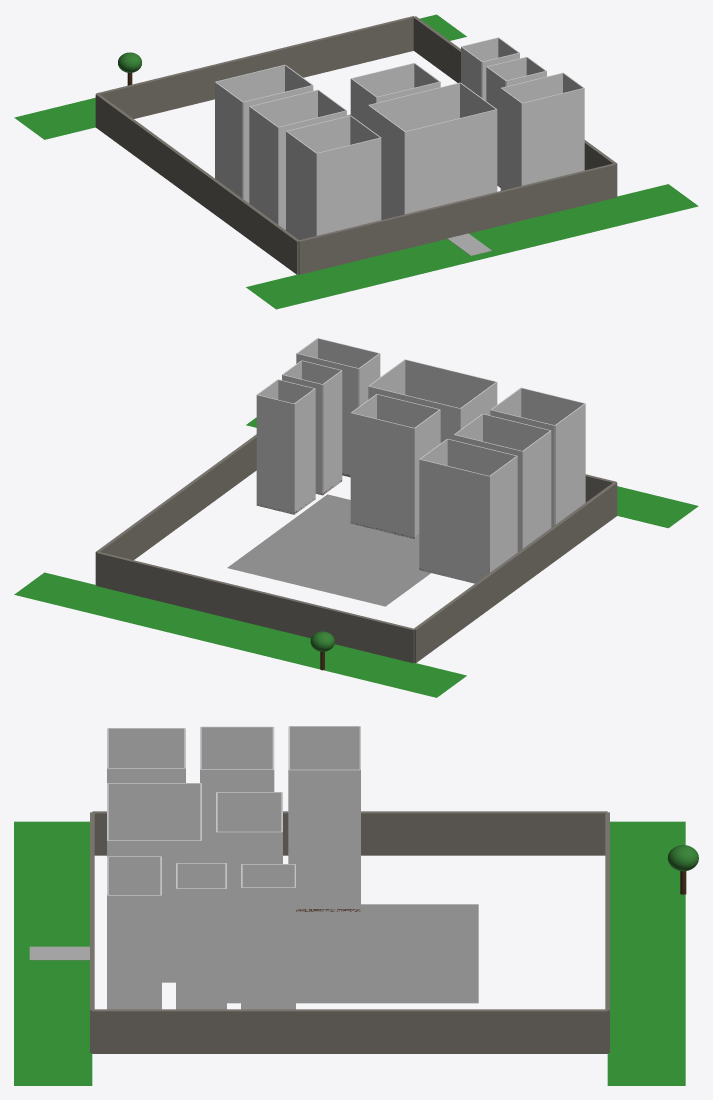
File: enhanced_boq_20f13a15-33d1-480e-b60e-916f02ca3a2c.obj
3 renders of one model, top to bottom at view 1: azimuth 30°, elevation 25°; view 2: azimuth 150°, elevation 25°; view 3: azimuth 270°, elevation 25°, orthographic. The views are drawn at different scales.
Visible parts, largest first — view 1: FrontYard, ExteriorWall_South, ExteriorWall_North, SouthWall_Living_Room_1, ExteriorWall_West, SouthWall_Bedroom_1, SouthWall_Kitchen_1, WestWall_Bedroom_1, WestWall_Bedroom_2, WestWall_Bedroom_3, WestWall_Living_Room_1, NorthWall_Living_Room_1 (+18 smaller); view 2: BackYard, Foundation, ExteriorWall_North, NorthWall_Bedroom_3, ExteriorWall_West, NorthWall_Dining_Room_1, ExteriorWall_East, NorthWall_Bathroom_2, WestWall_Bedroom_1, WestWall_Bedroom_2, WestWall_Bedroom_3, SouthWall_Living_Room_1 (+19 smaller); view 3: ExteriorWall_East, BackYard, FrontYard, Foundation, ExteriorWall_West, EastWall_Bedroom_3, EastWall_Bathroom_2, EastWall_Kitchen_1, EastWall_Bathroom_1, WestWall_Living_Room_1, EastWall_Dining_Room_1, EastWall_Living_Room_1 (+13 smaller).
Boxes of the visible parts, x1,y1,x2,y2 form: FrontYard: [246, 184, 698, 309]; ExteriorWall_South: [298, 163, 616, 274]; ExteriorWall_North: [96, 16, 414, 118]; SouthWall_Living_Room_1: [405, 109, 496, 213]; ExteriorWall_West: [95, 94, 299, 274]; SouthWall_Bedroom_1: [316, 137, 380, 235]; SouthWall_Kitchen_1: [522, 88, 584, 185]; WestWall_Bedroom_1: [286, 131, 316, 239]; WestWall_Bedroom_2: [249, 106, 278, 224]; WestWall_Bedroom_3: [215, 82, 242, 198]; WestWall_Living_Room_1: [368, 105, 405, 219]; NorthWall_Living_Room_1: [368, 82, 459, 131]; BackYard: [14, 572, 466, 697]; Foundation: [227, 494, 430, 606]; ExteriorWall_North: [96, 552, 414, 663]; NorthWall_Bedroom_3: [419, 459, 489, 583]; ExteriorWall_West: [414, 482, 617, 662]; NorthWall_Dining_Room_1: [351, 413, 414, 538]; ExteriorWall_East: [95, 434, 256, 584]; NorthWall_Bathroom_2: [256, 394, 293, 514]; WestWall_Bedroom_1: [555, 403, 585, 524]; WestWall_Bedroom_2: [522, 430, 551, 548]; WestWall_Bedroom_3: [489, 456, 517, 572]; SouthWall_Living_Room_1: [405, 359, 496, 407]; ExteriorWall_East: [92, 1009, 607, 1053]; BackYard: [607, 821, 685, 1085]; FrontYard: [14, 821, 92, 1085]; Foundation: [227, 904, 478, 1003]; ExteriorWall_West: [92, 811, 607, 855]; EastWall_Bedroom_3: [289, 769, 360, 911]; EastWall_Bathroom_2: [241, 887, 295, 1009]; EastWall_Kitchen_1: [107, 895, 161, 1009]; EastWall_Bathroom_1: [176, 888, 226, 1009]; WestWall_Living_Room_1: [107, 783, 201, 840]; EastWall_Dining_Room_1: [216, 831, 282, 973]; EastWall_Living_Room_1: [107, 840, 201, 982].
Bounding box in the file's own units: 40 × 10 × 43.8.
